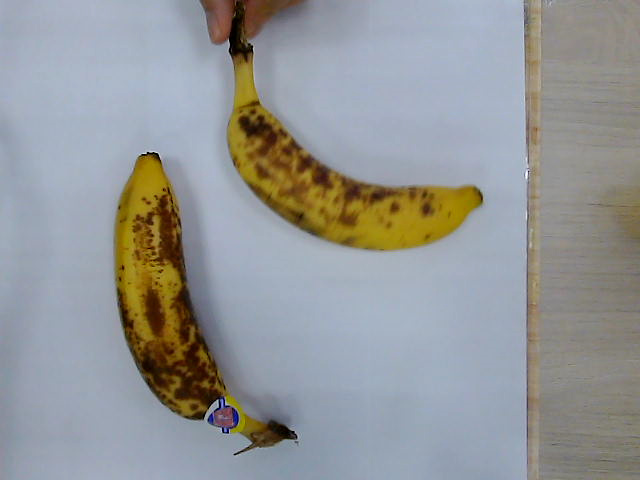rotten_banana: (224, 27, 484, 252), (114, 151, 300, 451)
